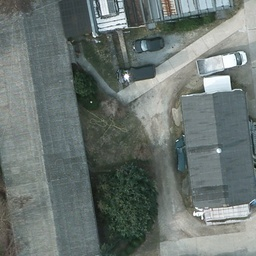car: (119, 63, 157, 82), (132, 36, 164, 55)
pickup: (195, 50, 251, 78)
